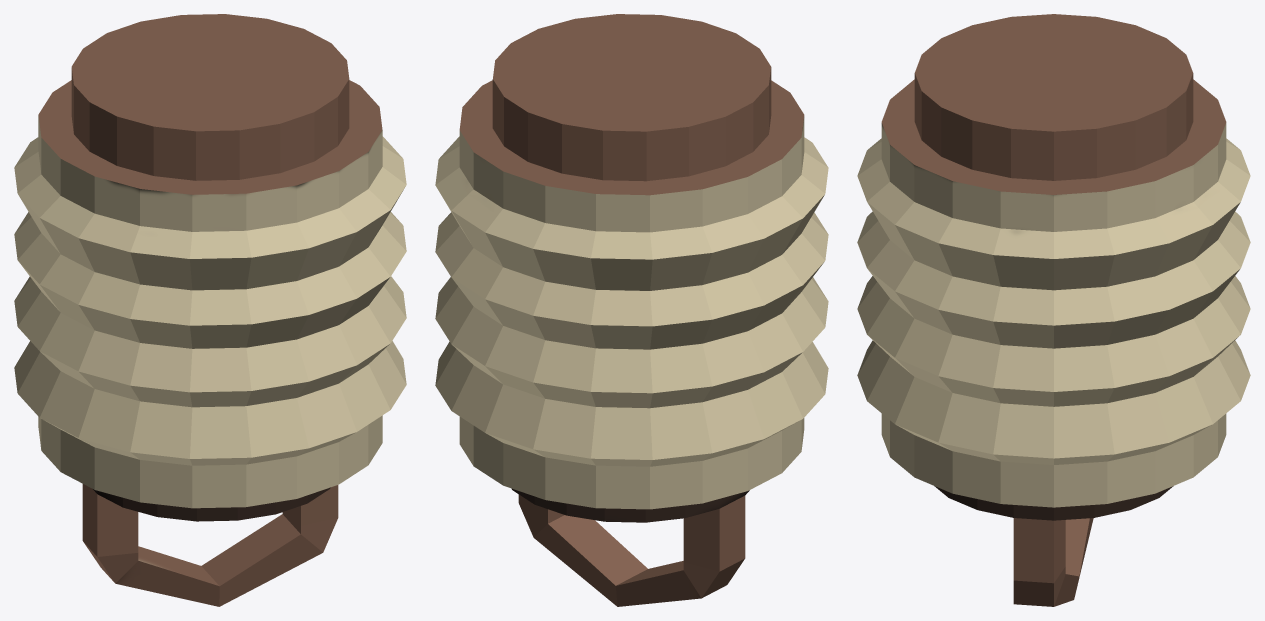
File: lanterna.fbx
3 views of the same model, side by side, from view 1: azimuth 30°, elevation 25°; view 2: azimuth 150°, elevation 25°; view 3: azimuth 270°, elevation 25° (orthographic).
Parts seen in each view (by area): view 1: Cylinder; view 2: Cylinder; view 3: Cylinder.
Boxes of the visible parts, x1,y1,x2,y2 form: Cylinder: [14, 14, 406, 606]; Cylinder: [435, 14, 828, 606]; Cylinder: [857, 14, 1250, 606].
Size of the model in its own units: 228 by 336 by 228.
1 material, 1 textured.
